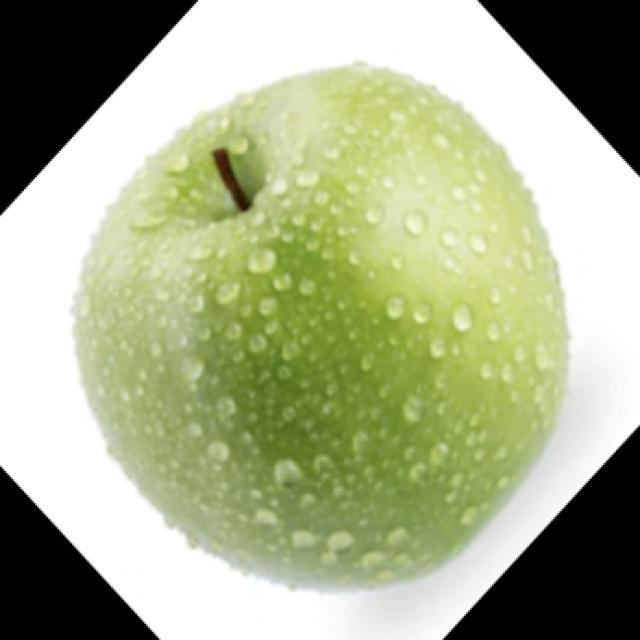Fresh Apple: (95, 52, 583, 580)
